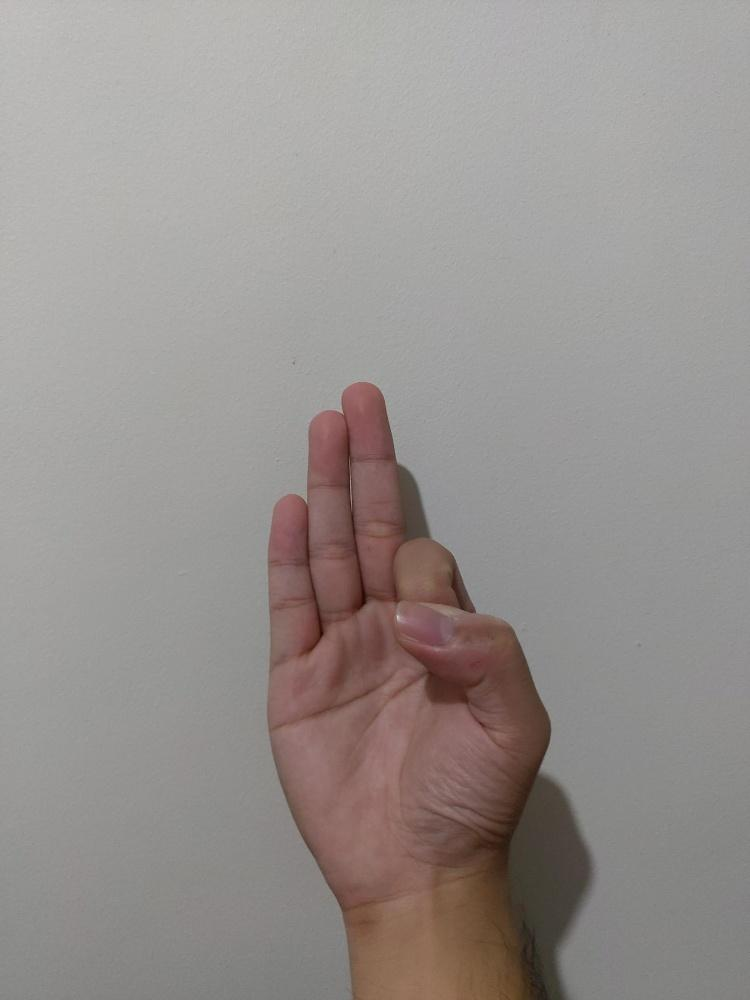f: (264, 378, 556, 909)
